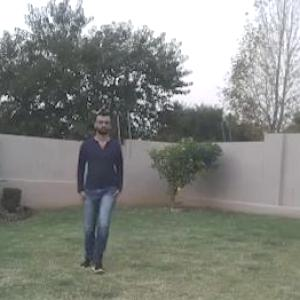follow: (79, 117, 121, 260)
